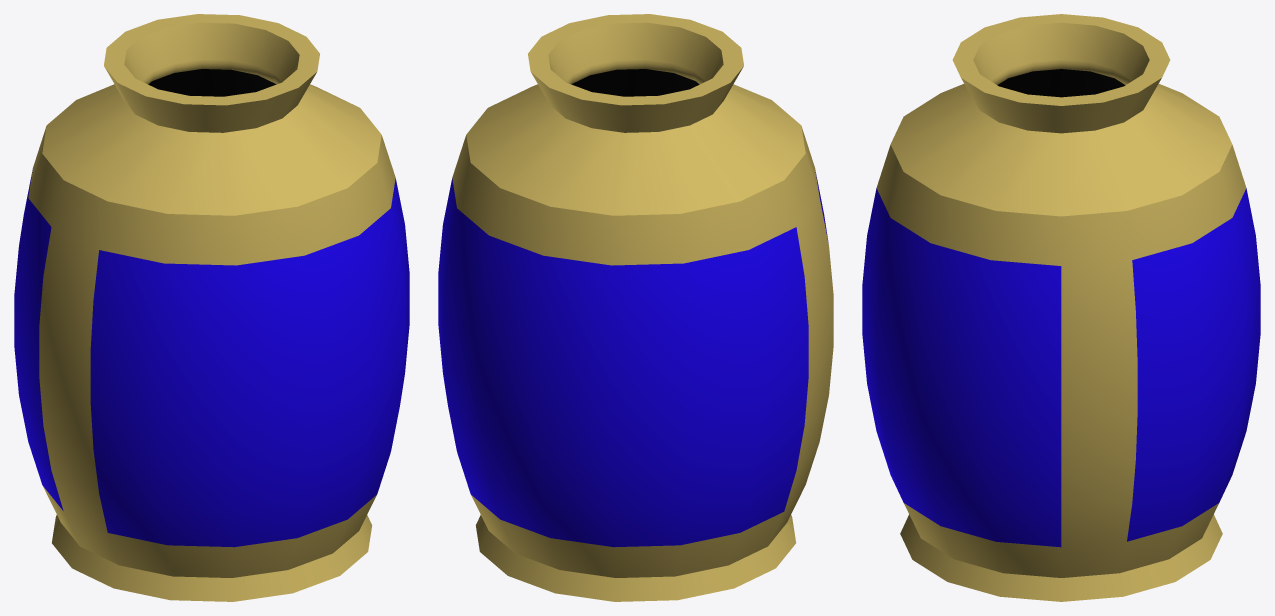
Rendered from Large Fancy Pot.fbx.
3 renders of one model, left to right at view 1: azimuth 30°, elevation 25°; view 2: azimuth 150°, elevation 25°; view 3: azimuth 270°, elevation 25°, orthographic.
Parts seen in each view (by area): view 1: Large_Pot__Fancy; view 2: Large_Pot__Fancy; view 3: Large_Pot__Fancy.
Part boxes in pixels (x1,y1,x2,y2): Large_Pot__Fancy: [14, 14, 409, 601]; Large_Pot__Fancy: [438, 14, 833, 601]; Large_Pot__Fancy: [862, 14, 1260, 601].
Bounding box in the file's own units: 98.58 × 129 × 98.58.
